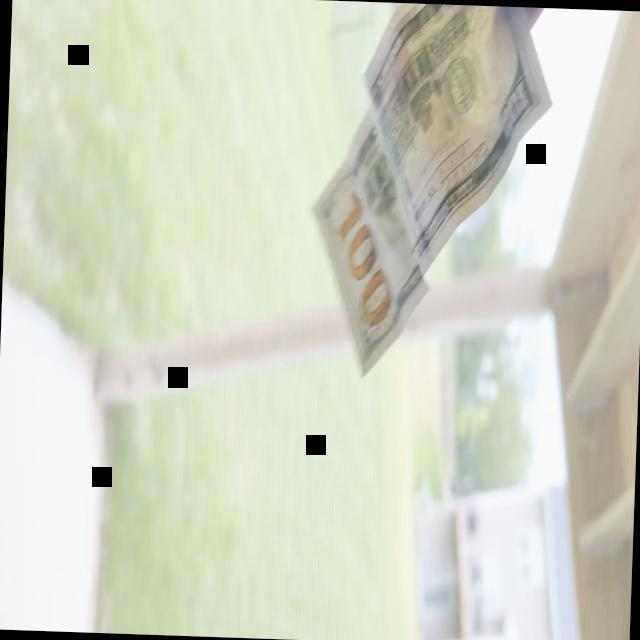hundred: (305, 0, 556, 389)
